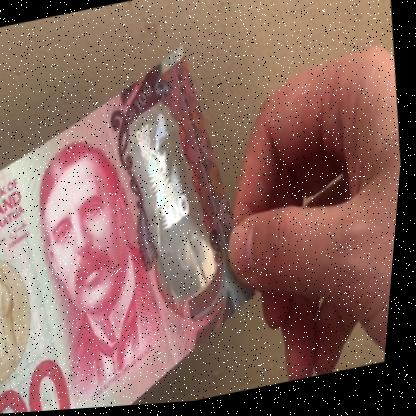100F: (122, 101, 225, 288)
